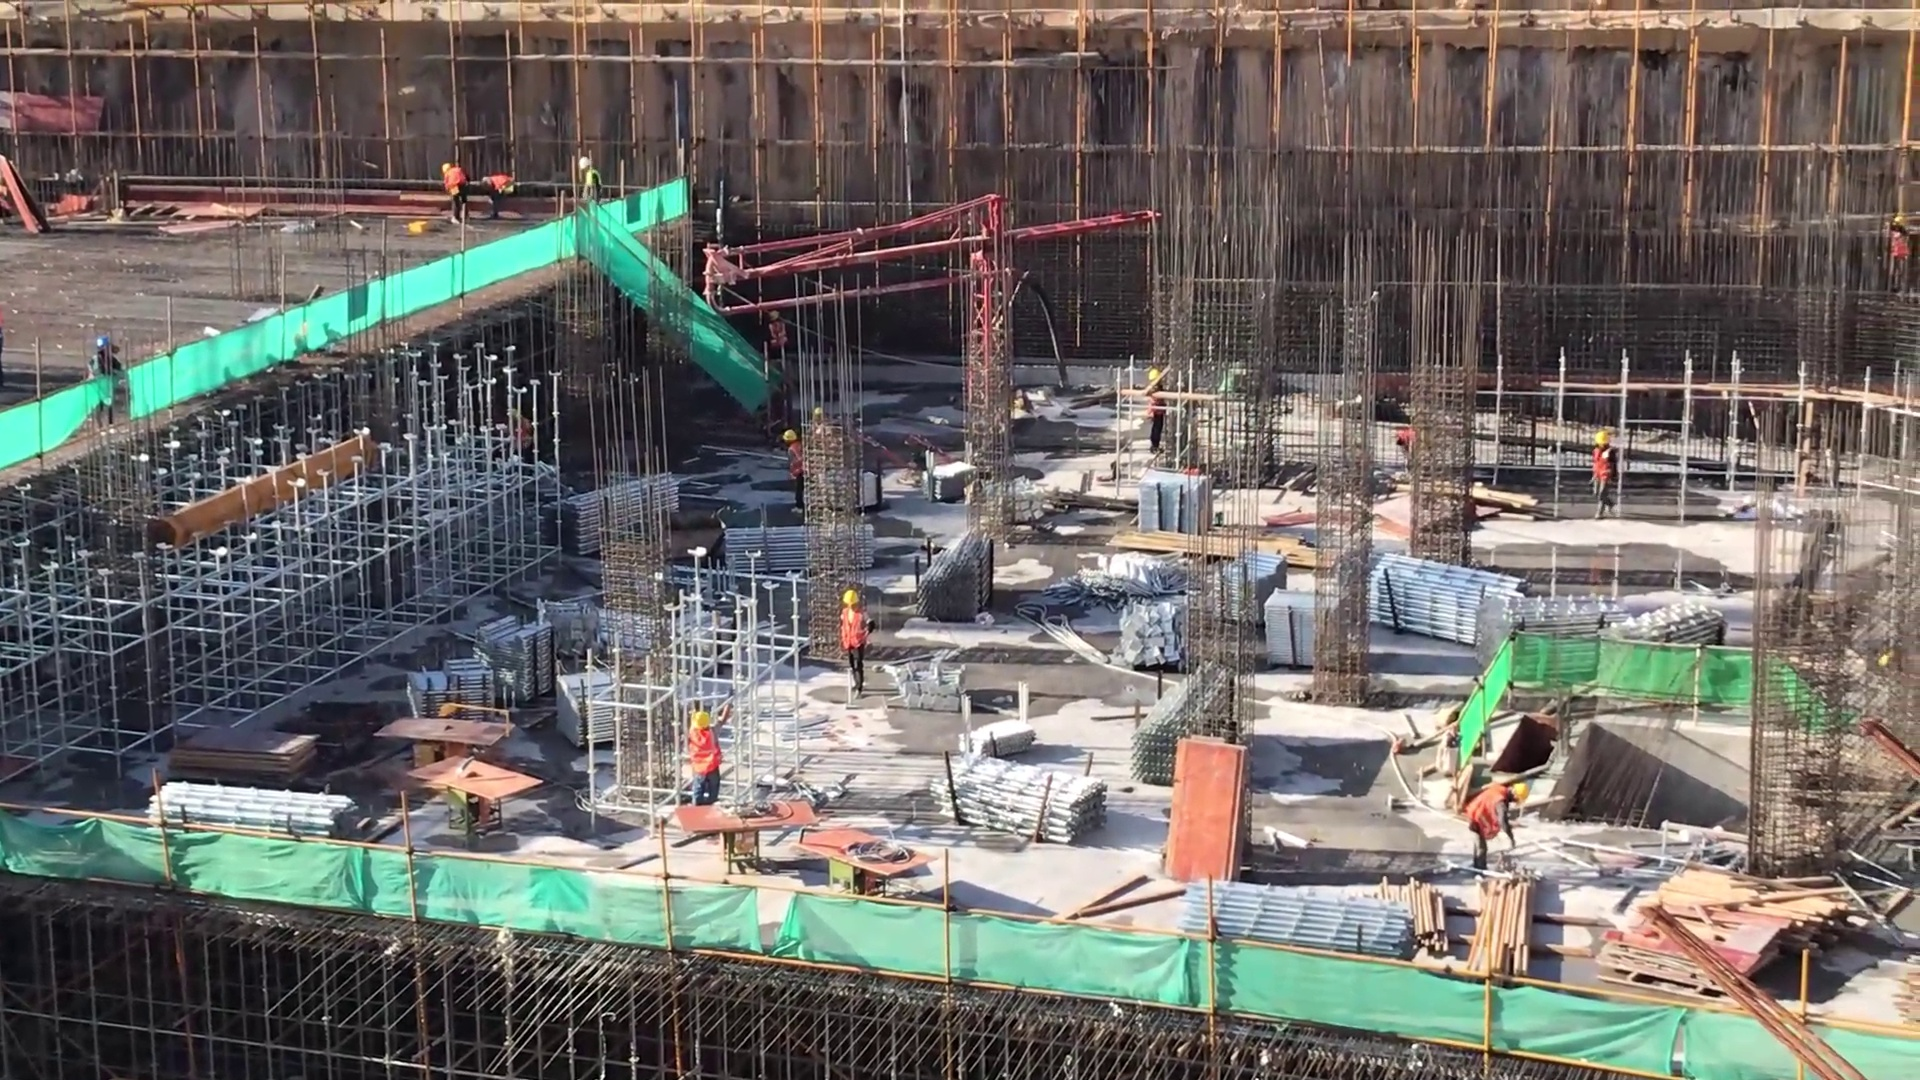board: (1586, 905, 1796, 977), (1163, 726, 1250, 882), (170, 727, 318, 788)
brick: (1119, 597, 1189, 669)
cutter: (794, 817, 952, 905), (677, 792, 822, 877), (407, 752, 542, 841), (376, 715, 516, 777)
helmet: (89, 330, 121, 359), (1503, 776, 1534, 803), (691, 710, 719, 737), (1142, 363, 1173, 385), (1593, 427, 1617, 452), (576, 154, 597, 174), (845, 587, 861, 611), (782, 428, 799, 444), (768, 308, 783, 325), (436, 159, 453, 173)
person: (1456, 768, 1530, 882), (81, 330, 130, 437), (686, 698, 726, 817), (840, 580, 874, 709), (478, 161, 525, 230), (1591, 427, 1623, 524), (781, 417, 808, 524), (1143, 354, 1171, 454), (766, 295, 799, 379), (437, 150, 466, 241), (574, 146, 604, 226)
scaffold: (1182, 878, 1434, 978), (930, 758, 1141, 857), (1361, 550, 1533, 657), (138, 784, 358, 859), (1591, 604, 1729, 711), (542, 466, 691, 557), (1486, 589, 1631, 682), (718, 512, 885, 582), (394, 657, 506, 742), (917, 528, 1010, 625), (473, 615, 563, 702), (552, 666, 629, 752), (1215, 550, 1288, 627)
vest: (1464, 785, 1515, 845), (687, 729, 722, 777), (838, 607, 869, 650), (1591, 447, 1615, 486), (785, 443, 806, 479), (769, 321, 790, 347), (443, 167, 464, 192)
